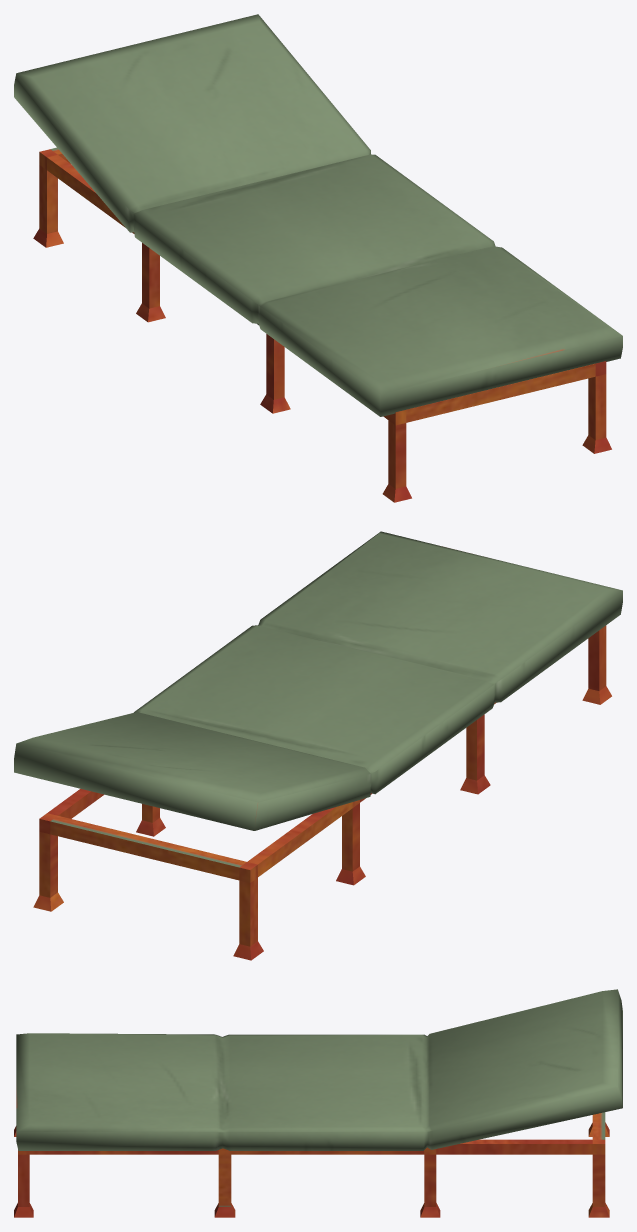
The model's file is bed_jackie.glb.
3 views of the same model, one above another, from view 1: azimuth 30°, elevation 25°; view 2: azimuth 150°, elevation 25°; view 3: azimuth 270°, elevation 25° (orthographic). The views are drawn at different scales.
Parts seen in each view (by area): view 1: bed-col; view 2: bed-col; view 3: bed-col.
Boxes of the visible parts, x1,y1,x2,y2 form: bed-col: [14, 14, 622, 502]; bed-col: [14, 531, 622, 960]; bed-col: [14, 989, 622, 1217].
Bounding box in the file's own units: 0.8099 × 0.5295 × 2.14.
1 material, 1 textured.
